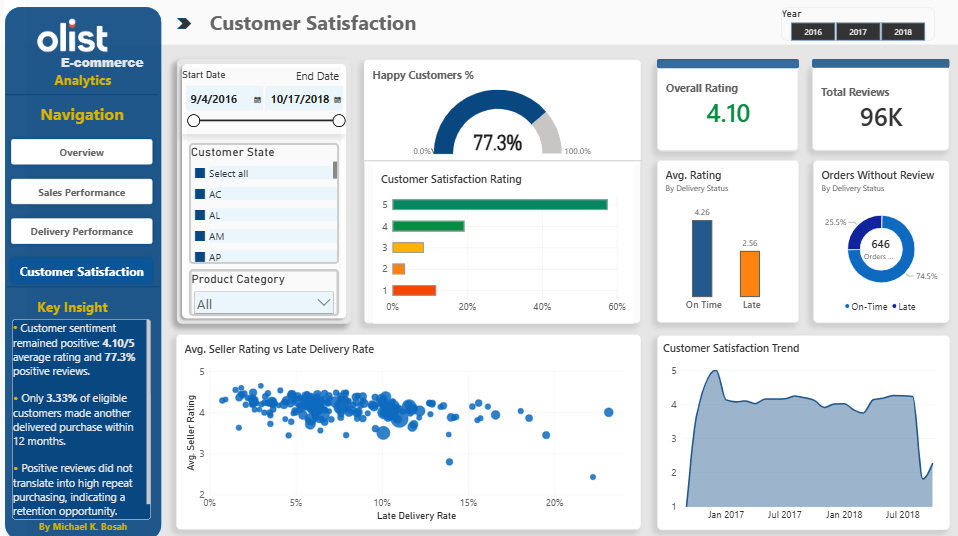

The dashboard page shown, as its layout file describes it:
{"tool":"powerbi","page":{"name":"Customer Satisfaction","canvas":[1920,1080],"ordinal":3},"visuals":[{"type":"shape","box":[0,0,57.1,1080],"z":0},{"type":"shape","box":[730.8,121.8,551.8,526.6],"z":1000},{"type":"shape","box":[14.5,0,1905.5,92.9],"z":2000},{"type":"shape","box":[15.4,17.6,311.7,1062.4],"z":3000},{"type":"clusteredColumnChart","title":"Avg. Rating ","fields":{"Category":["vw_olist_analysis.delivery_status"],"Y":["Avg(vw_olist_analysis.review_score)"]},"box":[1315.1,322.1,282.8,324.1],"z":4000},{"type":"areaChart","title":"Customer Satisfaction Trend","fields":{"Category":["vw_olist_analysis.order_date.Variation.Date Hierarchy.Year","vw_olist_analysis.order_date.Variation.Date Hierarchy.Month"],"Y":["Avg(vw_olist_analysis.review_score)"]},"box":[1314.9,671.7,583.9,388.5],"z":5000},{"type":"scatterChart","title":"Avg. Seller Rating vs Late Delivery Rate","fields":{"Category":["vw_olist_analysis.seller_id"],"Size":["vw_olist_analysis.Seller Orders"],"X":["vw_olist_analysis.Seller Late Delivery Rate"],"Y":["vw_olist_analysis.Average Seller Rating"]},"box":[357.2,668.9,927,390.2],"z":6000},{"type":"gauge","fields":{"Y":["vw_olist_analysis.Happy Customers %"]},"box":[730.8,123.9,551.2,208.5],"z":7000},{"type":"shape","box":[359.2,121.8,346.8,526.8],"z":8000},{"type":"slicer","title":"Customer State","fields":{"Values":["vw_olist_analysis.customer_state"]},"box":[381.9,289,298.5,241.5],"z":9000},{"type":"slicer","title":"Product Category","fields":{"Values":["vw_olist_analysis.product_category"]},"box":[381.9,540.9,298.5,94.4],"z":10000},{"type":"cardVisual","fields":{"Data":["vw_olist_analysis.Total Reviews"]},"box":[1624.8,134.2,274.4,171.2],"z":11000},{"type":"cardVisual","fields":{"Data":["Avg(customer_satisfaction.Average Rating)"]},"box":[1315.1,123.9,282.8,181.7],"z":12000},{"type":"shape","box":[730.8,278.7,553.3,90.8],"z":13000},{"type":"shape","box":[1624.8,121.8,274.4,17.6],"z":14000},{"type":"shape","box":[357.8,39.5,28.5,22],"z":15000},{"type":"shape","box":[20.6,483.1,305.1,186.6],"z":16000},{"type":"shape","box":[16.5,59.9,305.1,265.6],"z":17000},{"type":"slicer","title":"Start Date","fields":{"Values":["vw_olist_analysis.order_date"]},"box":[369.5,142.5,329.3,129.5],"z":18000},{"type":"textbox","box":[596.6,140.4,300,300],"z":19000},{"type":"textbox","box":[0,594.9,300.9,53.8],"z":20000},{"type":"textbox","box":[61.5,112,296.3,59.3],"z":21000},{"type":"clusteredBarChart","title":"Customer Satisfaction Rating","fields":{"Category":["vw_olist_analysis.review_score"],"Y":["vw_olist_analysis.Rating Distribution %"]},"box":[749.4,330.3,520.3,317.9],"z":22000},{"type":"slicer","title":"Year","fields":{"Values":["vw_olist_analysis.order_date.Variation.Date Hierarchy.Year"]},"box":[1562.9,17.6,307.3,68],"z":23000},{"type":"donutChart","title":"Orders Without Review ","fields":{"Y":["vw_olist_analysis.On-Time No Review %","vw_olist_analysis.Late No Review %"]},"box":[1626.8,322.1,272.2,324.9],"z":24000},{"type":"cardVisual","fields":{"Data":["vw_olist_analysis.Total No Review Orders"]},"box":[1711.5,458.3,98.8,83.4],"z":25000},{"type":"textbox","box":[28.9,640,276.6,399.5],"z":26000},{"type":"textbox","box":[84.6,1040.5,301.4,39.2],"z":27000},{"type":"pageNavigator","box":[20.6,272.5,298.5,305.1],"z":28000},{"type":"textbox","box":[15.4,206.3,307.3,59.3],"z":29000},{"type":"textbox","box":[22,142.7,298.5,43.9],"z":30000},{"type":"image","box":[0,0,304.8,155.5],"z":31000},{"type":"shape","box":[1315.1,121.8,282.8,18.6],"z":32000}]}

Visuals, with their boxes in screenshot pixels (x1, y1, x2, y2), scaled from the page's 1920x1080 canvas onto the 958x536 screenshot:
shape: bbox=[0, 0, 28, 535]
shape: bbox=[365, 60, 640, 322]
shape: bbox=[7, 0, 957, 46]
shape: bbox=[8, 9, 163, 535]
"Avg. Rating " clusteredColumnChart: bbox=[656, 160, 797, 321]
"Customer Satisfaction Trend" areaChart: bbox=[656, 333, 947, 526]
"Avg. Seller Rating vs Late Delivery Rate" scatterChart: bbox=[178, 332, 641, 526]
gauge - vw_olist_analysis.Happy Customers %: bbox=[365, 61, 640, 165]
shape: bbox=[179, 60, 352, 322]
"Customer State" slicer: bbox=[191, 143, 339, 263]
"Product Category" slicer: bbox=[191, 268, 339, 315]
cardVisual - vw_olist_analysis.Total Reviews: bbox=[811, 67, 948, 152]
cardVisual - Avg(customer_satisfaction.Average Rating): bbox=[656, 61, 797, 152]
shape: bbox=[365, 138, 641, 183]
shape: bbox=[811, 60, 948, 69]
shape: bbox=[179, 20, 193, 31]
shape: bbox=[10, 240, 163, 332]
shape: bbox=[8, 30, 160, 162]
"Start Date" slicer: bbox=[184, 71, 349, 135]
textbox: bbox=[298, 70, 447, 219]
textbox: bbox=[0, 295, 150, 322]
textbox: bbox=[31, 56, 179, 85]
"Customer Satisfaction Rating" clusteredBarChart: bbox=[374, 164, 634, 322]
"Year" slicer: bbox=[780, 9, 933, 42]
"Orders Without Review " donutChart: bbox=[812, 160, 948, 321]
cardVisual - vw_olist_analysis.Total No Review Orders: bbox=[854, 227, 903, 269]
textbox: bbox=[14, 318, 152, 516]
textbox: bbox=[42, 516, 193, 535]
pageNavigator: bbox=[10, 135, 159, 287]
textbox: bbox=[8, 102, 161, 132]
textbox: bbox=[11, 71, 160, 93]
image: bbox=[0, 0, 152, 77]
shape: bbox=[656, 60, 797, 70]
